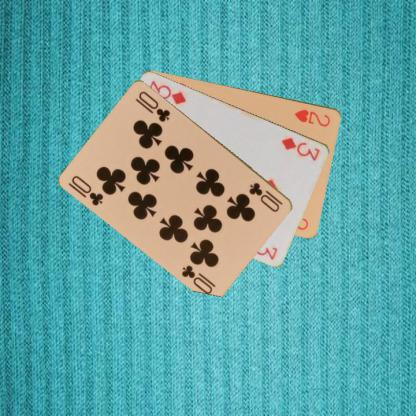10c: (246, 180, 284, 213), (69, 173, 105, 207)
2h: (292, 106, 332, 128)
3d: (279, 135, 323, 162)
